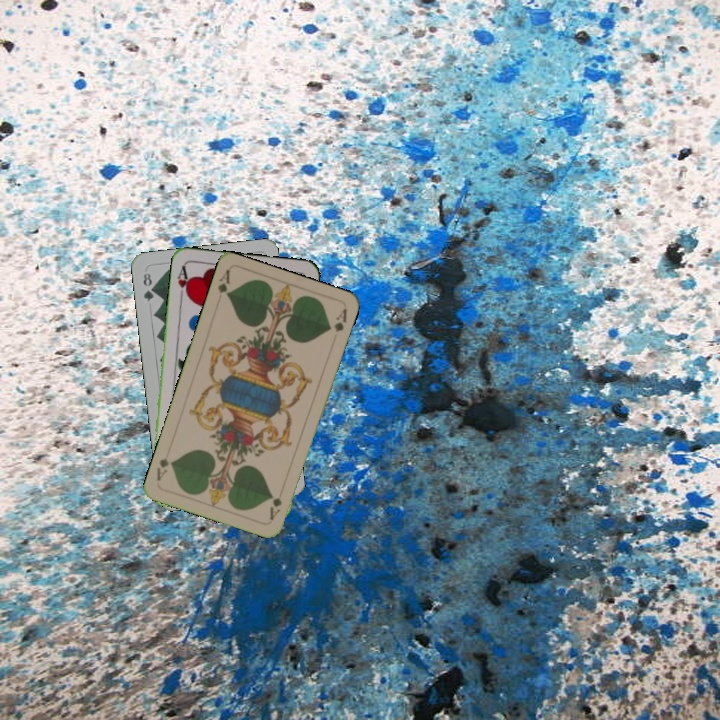G8: (139, 269, 157, 304)
GA: (266, 484, 286, 523), (213, 266, 233, 299)
HA: (173, 262, 193, 302)
